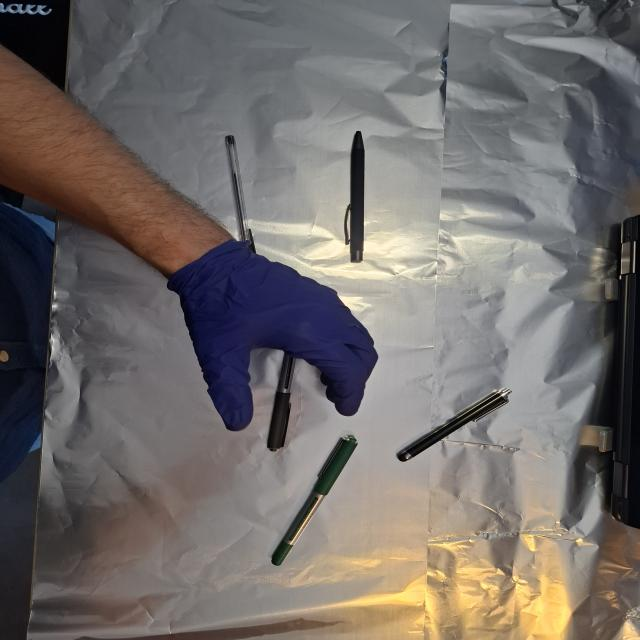glove_on: (162, 238, 382, 435)
